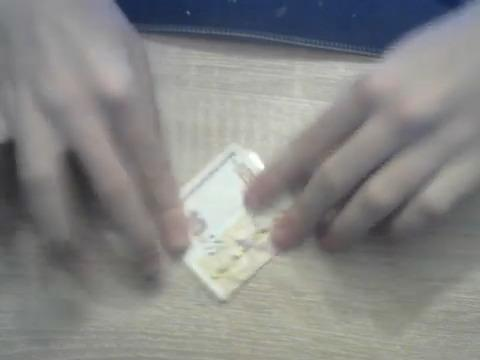10leva: (180, 144, 274, 304)
